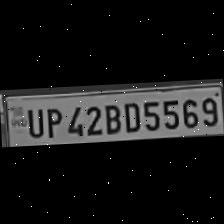2: (82, 102, 103, 134)
4: (62, 101, 84, 135)
5: (138, 96, 160, 130), (158, 94, 180, 128)
6: (178, 94, 198, 128)
9: (197, 93, 219, 126)
B: (100, 100, 122, 132)
D: (120, 97, 140, 131)
P: (42, 102, 63, 136)
U: (22, 104, 43, 136)
